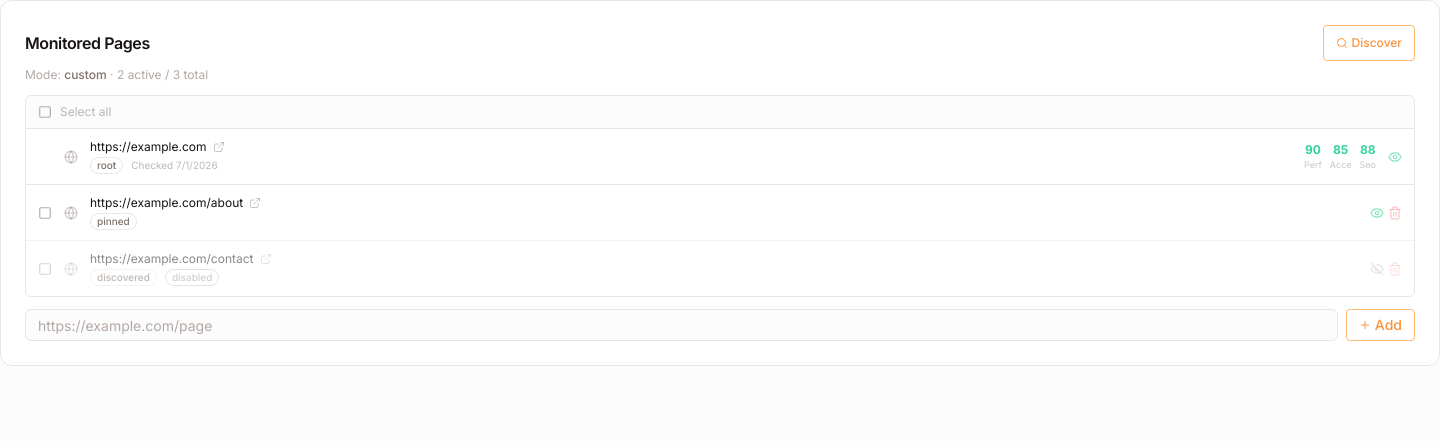
Test: MonitorPages › select all selects only non-root pages
Expected: the text "Select all" is shown, [60,104,111,120]
Click the button named "select all non-root pages" at {"x": 45, "y": 112}, box [38,105,52,119]
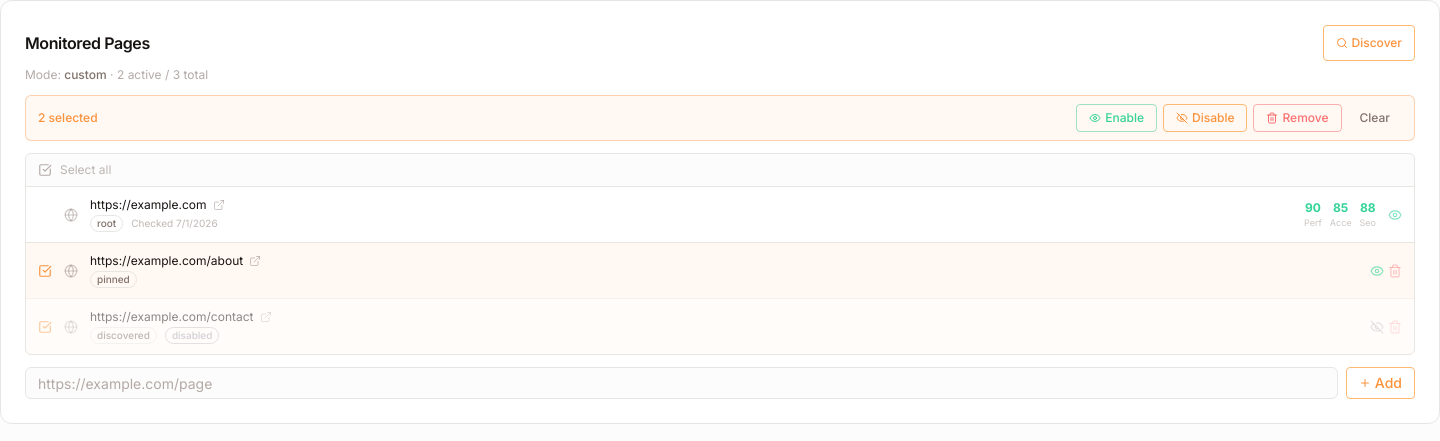
Now the text "2 selected" is shown, box [38,110,98,126]
